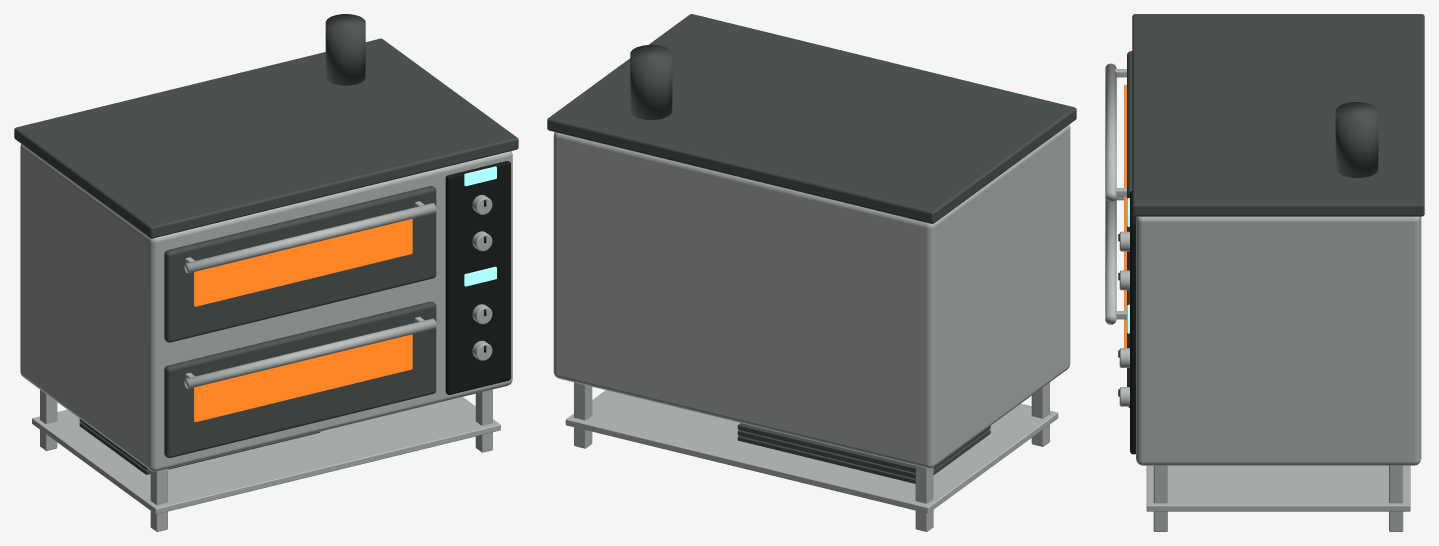
Rendered from horno.glb.
3 renders of one model, left to right at view 1: azimuth 30°, elevation 25°; view 2: azimuth 150°, elevation 25°; view 3: azimuth 270°, elevation 25°, orthographic. The views are drawn at different scales.
Parts seen in each view (by area): view 1: remate, cuerpo.001, repisa_baja, puerta_1, puerta_0, panel, visor_1, visor_0, manija_0, manija_1, chimenea, pata_-0.56_-0.33 (+3 smaller); view 2: cuerpo.001, remate, repisa_baja, chimenea, bandeja_2, bandeja_0, bandeja_1, pata_-0.56_0.33, pata_0.56_0.33, pata_-0.56_-0.33; view 3: cuerpo.001, remate, repisa_baja, chimenea, manija_1, panel, manija_0, puerta_1, pata_0.56_-0.33, pata_0.56_0.33, visor_1.
Boxes of the visible parts, x1,y1,x2,y2 form: remate: [14, 38, 518, 238]; cuerpo.001: [20, 144, 512, 471]; repisa_baja: [32, 397, 500, 514]; puerta_1: [164, 186, 436, 342]; puerta_0: [164, 301, 436, 457]; panel: [445, 161, 510, 394]; visor_1: [194, 219, 412, 306]; visor_0: [194, 334, 412, 421]; manija_0: [184, 318, 436, 388]; manija_1: [184, 203, 436, 273]; chimenea: [325, 14, 365, 85]; pata_-0.56_-0.33: [150, 469, 167, 531]; cuerpo.001: [553, 124, 1070, 468]; remate: [547, 14, 1076, 223]; repisa_baja: [565, 390, 1058, 513]; chimenea: [630, 45, 672, 119]; bandeja_2: [737, 423, 915, 472]; bandeja_0: [737, 429, 990, 483]; bandeja_1: [737, 426, 990, 478]; pata_-0.56_0.33: [915, 466, 933, 531]; pata_0.56_0.33: [574, 382, 592, 448]; pata_-0.56_-0.33: [1031, 382, 1049, 446]; cuerpo.001: [1136, 216, 1421, 465]; remate: [1132, 14, 1424, 216]; repisa_baja: [1146, 465, 1410, 511]; chimenea: [1335, 102, 1378, 177]; manija_1: [1105, 63, 1116, 201]; panel: [1130, 191, 1135, 454]; manija_0: [1105, 197, 1116, 324]; puerta_1: [1127, 51, 1132, 270]; pata_0.56_-0.33: [1153, 465, 1167, 531]; pata_0.56_0.33: [1389, 465, 1403, 531]; visor_1: [1124, 84, 1126, 231].
Bounding box in the file's own units: 1.27 × 1.22 × 0.896.
